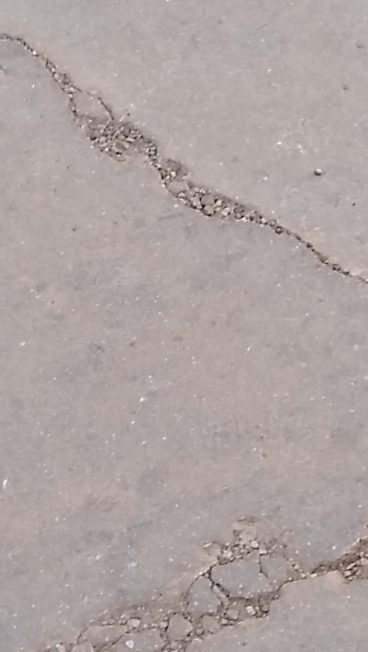A: (3, 23, 368, 311)
